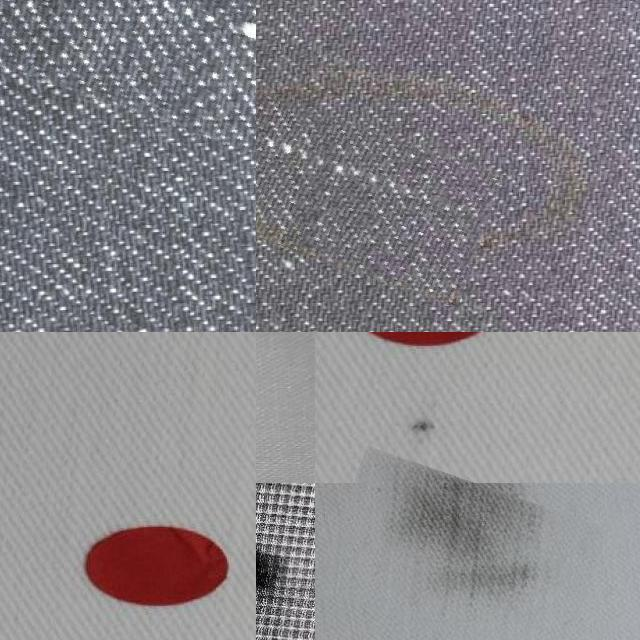Hole: (325, 464, 599, 640), (256, 517, 314, 637), (394, 403, 444, 452)
Thread_other: (256, 77, 496, 278)
